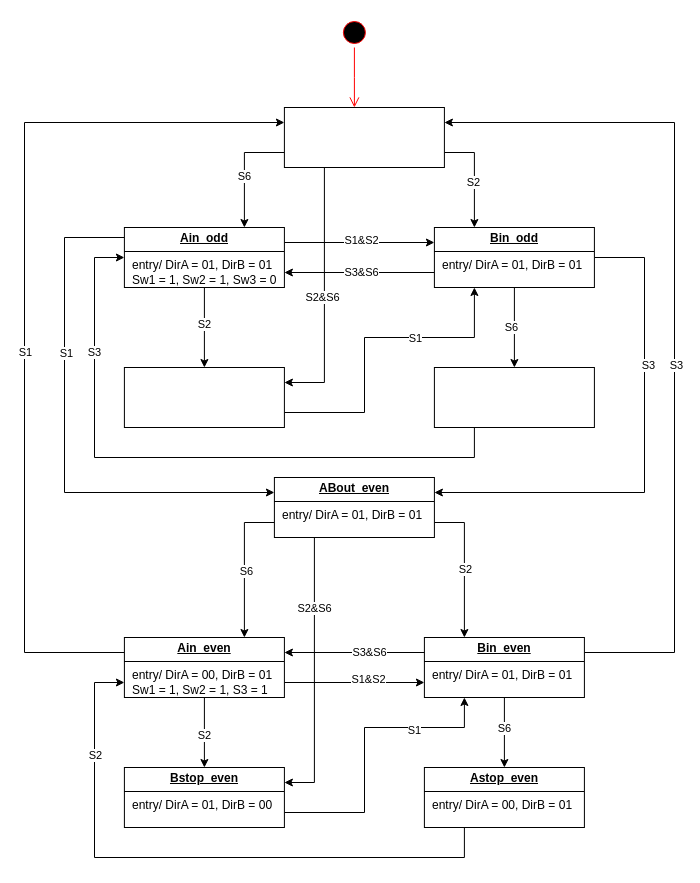
Some shapes in this 700 by 883 pixel diagram are drawn without their labels. Each missing label, with the centre of its shape:
ABout_odd entry/ DirA = 01, DirB = 01: (363,137)
Astop_odd entry/ DirA = 00, DirB = 01: (513,397)
Bstop_odd entry/ DirA = 01, DirB = 00: (203,397)
